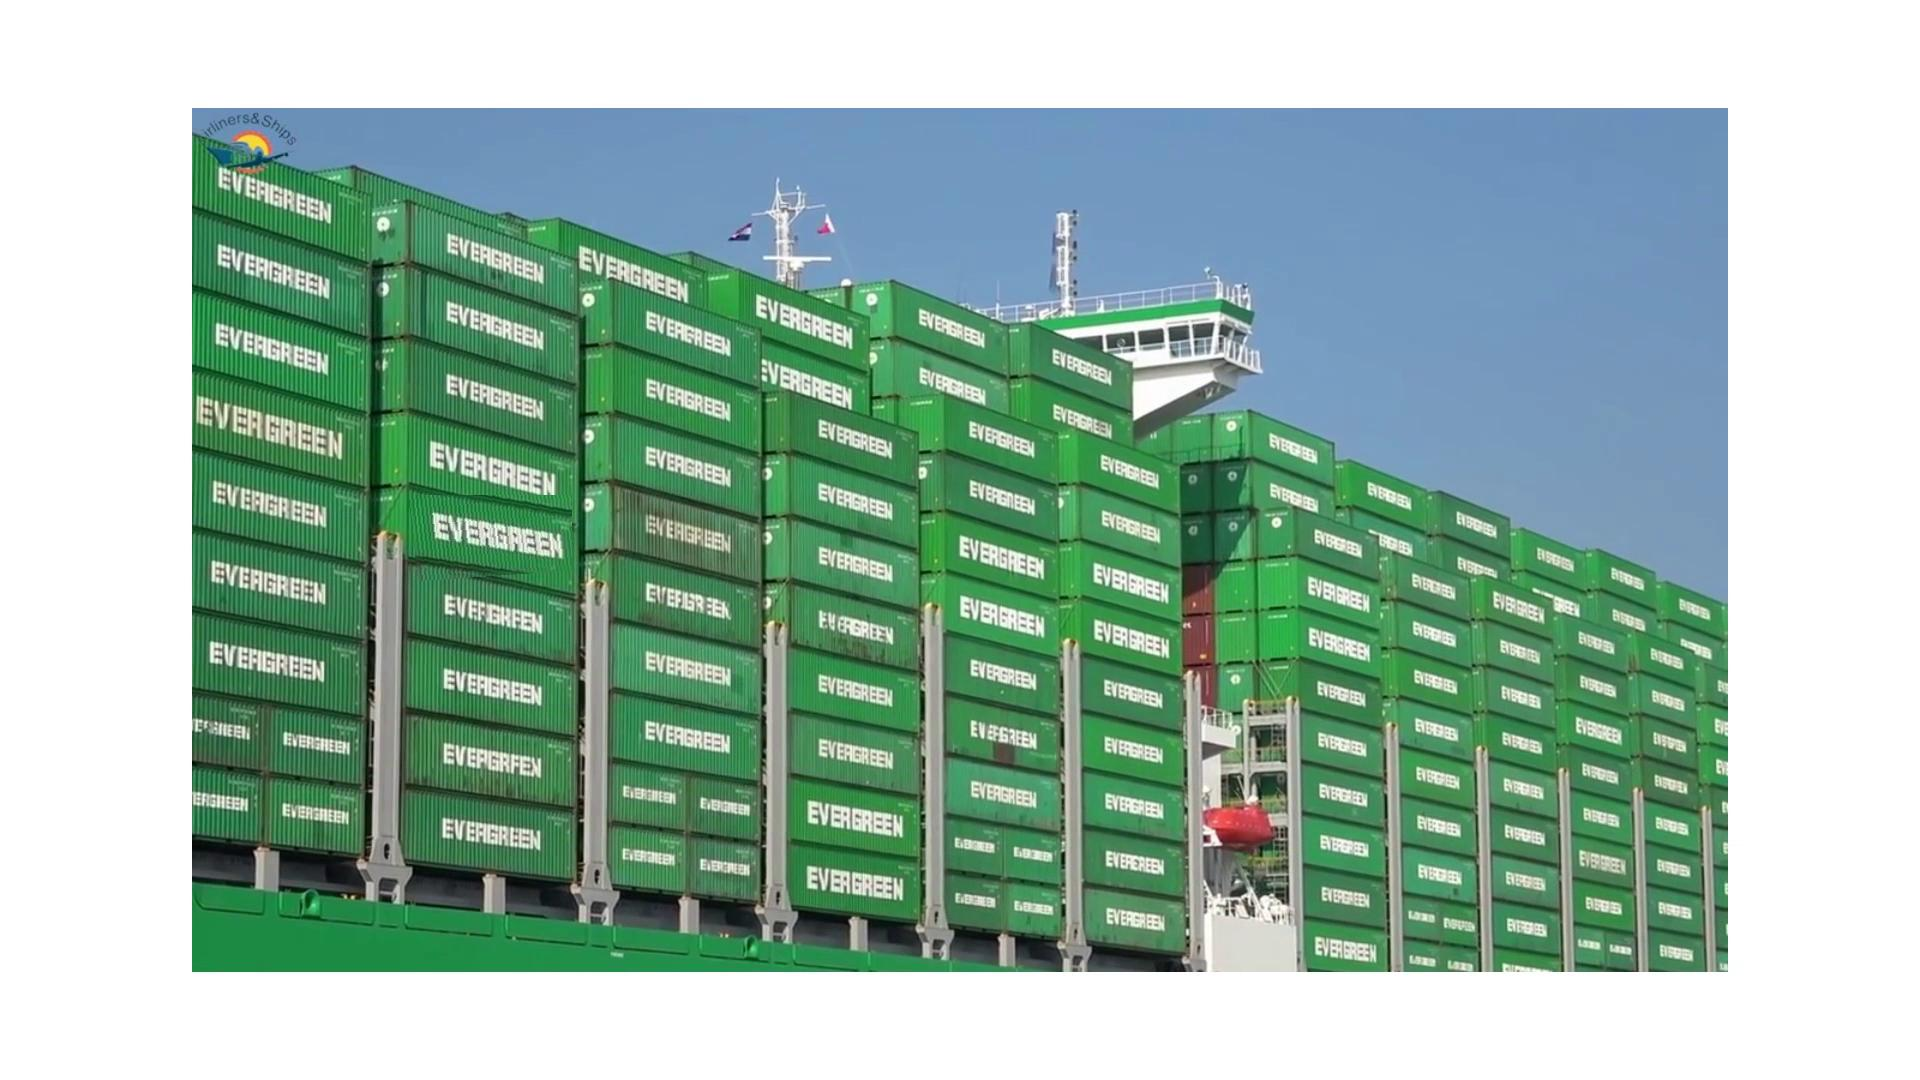OCR: (407, 496, 572, 582)
